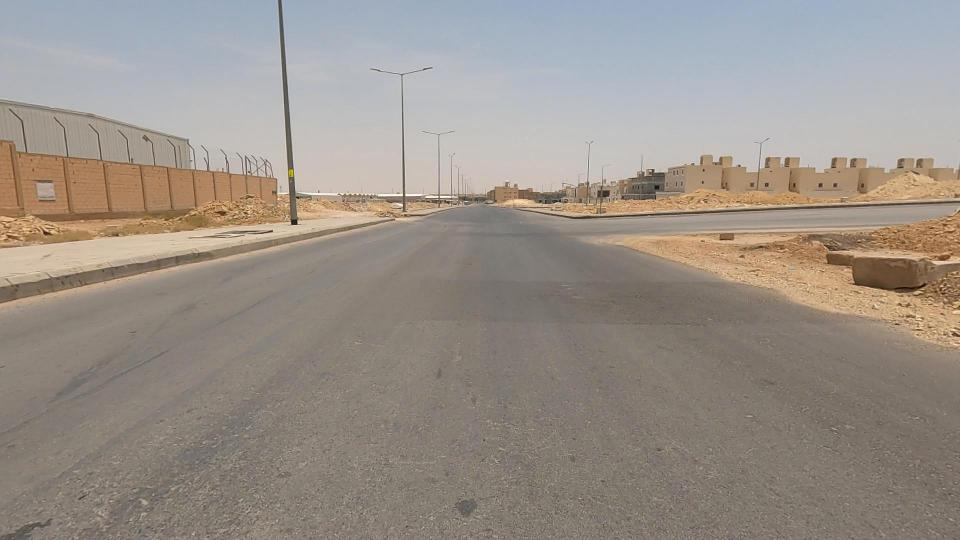SAND_ON_ROAD: (640, 155, 814, 241), (830, 153, 960, 225)
